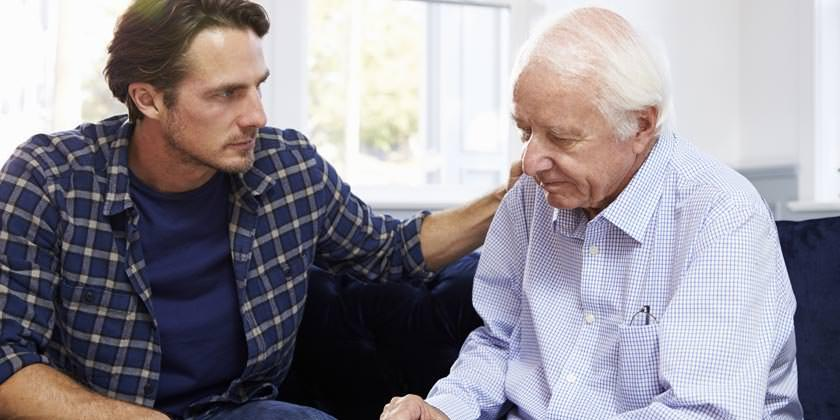person: (458, 16, 768, 333), (87, 5, 328, 235)
